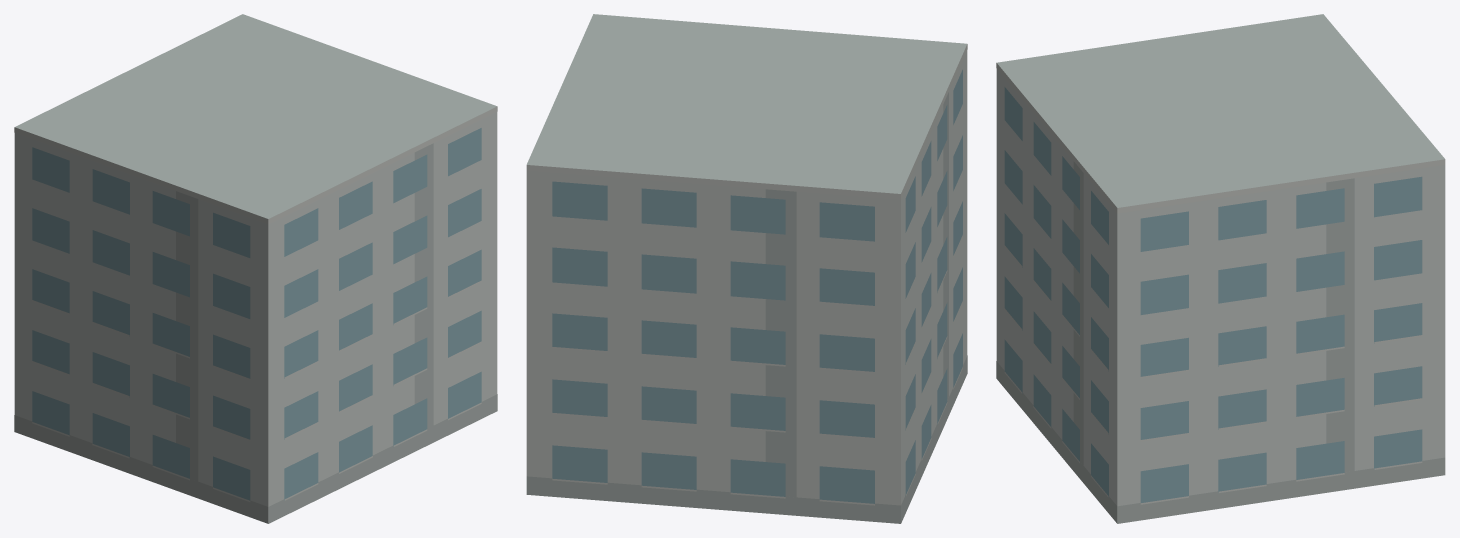
File: survey-upis-32865215.glb
3 views of the same model, side by side, from view 1: azimuth 30°, elevation 25°; view 2: azimuth 150°, elevation 25°; view 3: azimuth 270°, elevation 25° (orthographic). The views are drawn at different scales.
Parts seen in each view (by area): view 1: survey-upis-32865215.tmp; view 2: survey-upis-32865215.tmp; view 3: survey-upis-32865215.tmp.
Boxes of the visible parts, x1,y1,x2,y2 form: survey-upis-32865215.tmp: (14, 14, 497, 523); survey-upis-32865215.tmp: (526, 14, 967, 523); survey-upis-32865215.tmp: (996, 14, 1445, 523).
Bounding box in the file's own units: 18.25 × 13.85 × 17.85.
